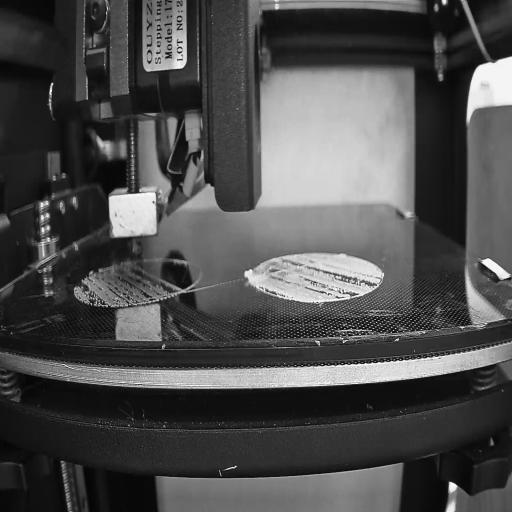under_extrusion: (259, 257, 383, 304), (78, 264, 185, 309)
